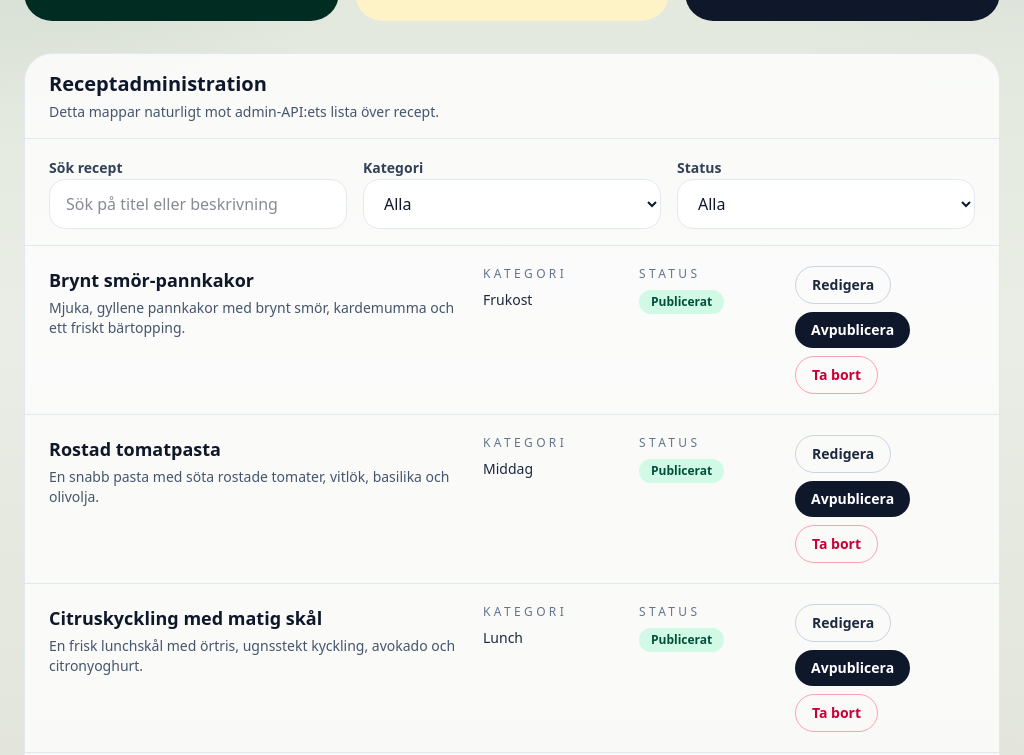
AdminDashboardPage › deletes a recipe after confirmation and shows success feedback
(page scrolled)
Step 1. Click the 1st button "Ta bort" → coordinates (836, 375), box [795,356,878,394]
(page scrolled)
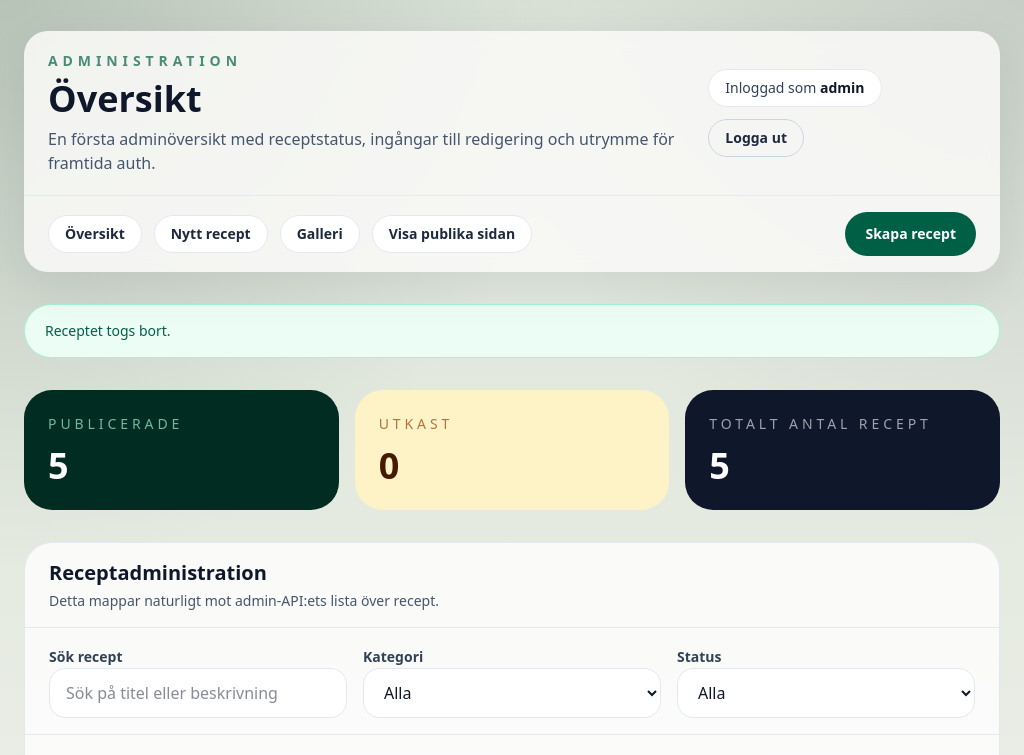
Result: the text "Receptet togs bort." is shown at [24,304,1000,358]
